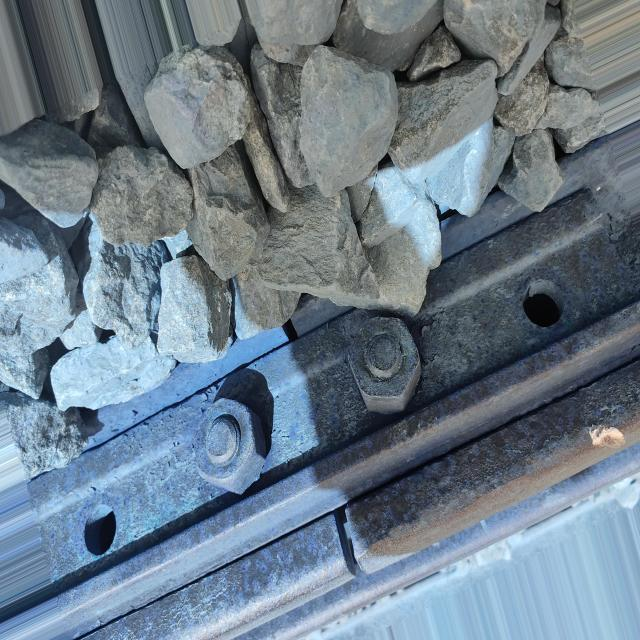Defective Joint: (36, 187, 640, 637)
